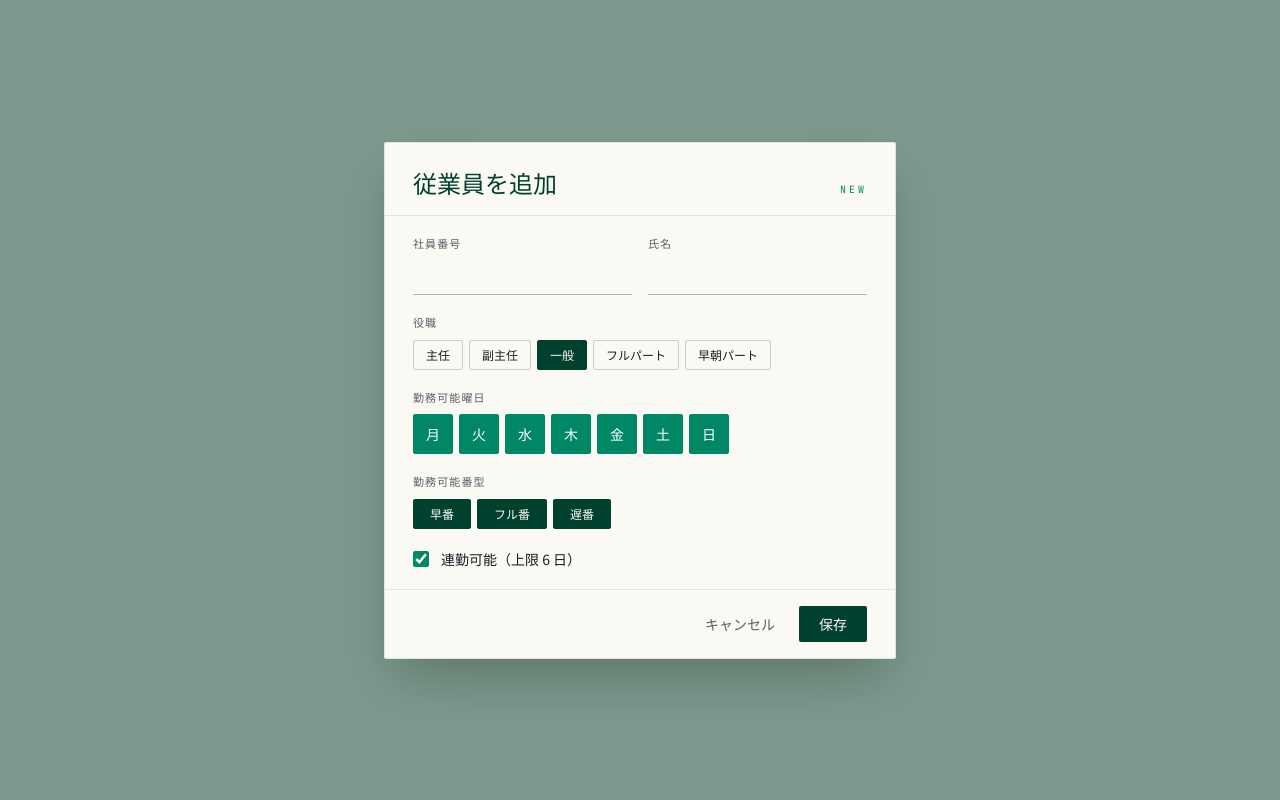
Test: EmployeeFormModal — error handling › shows server detail on rejection
Type "1" into the number field labelled "社員番号" at (522, 276), box [413,258,632,295]
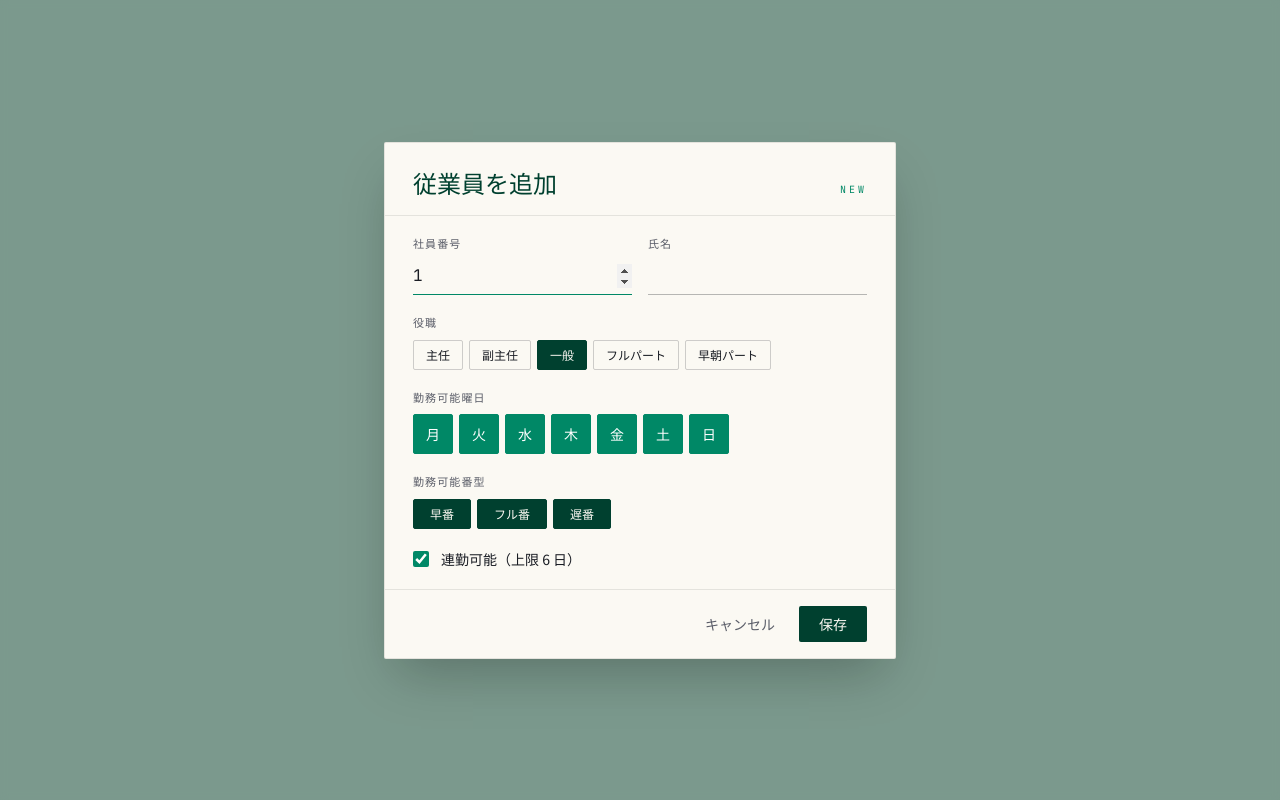
Type "Alice" into the field labelled "氏名" at (758, 276), box [648,258,867,295]
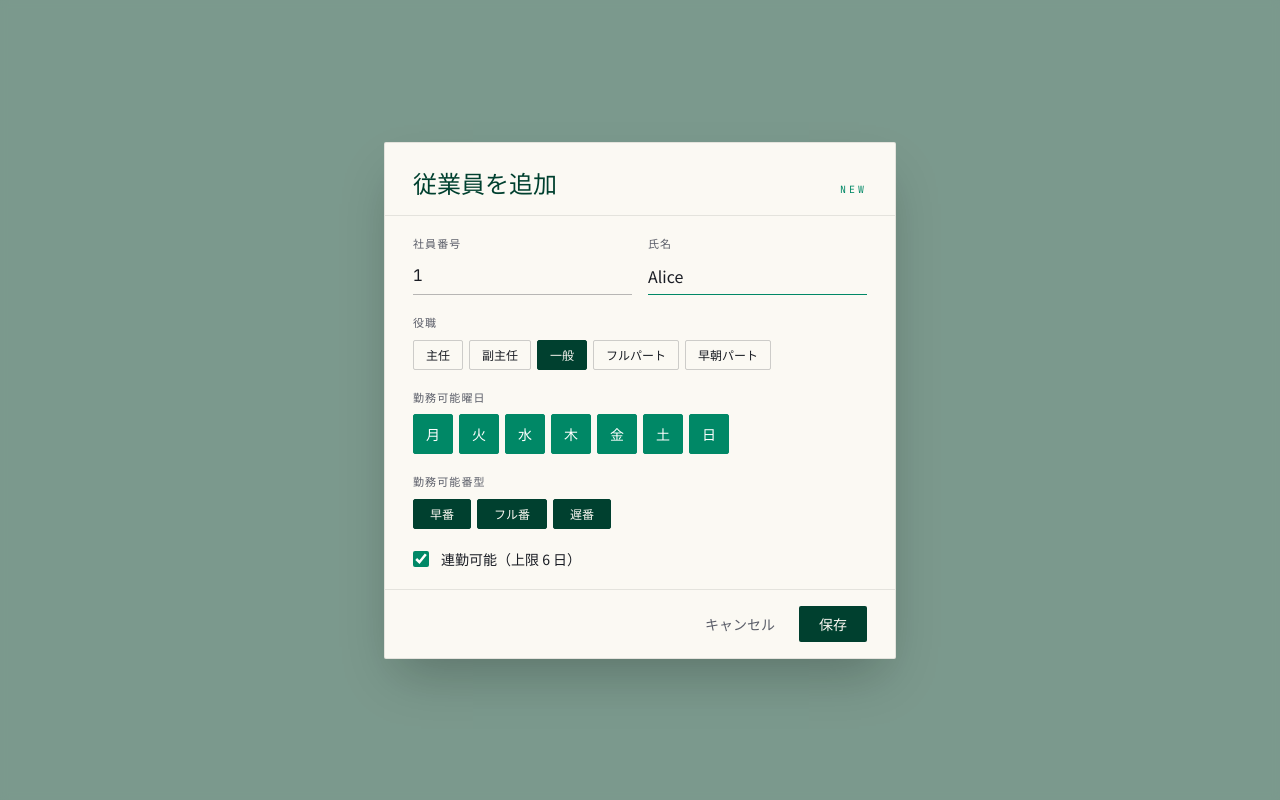
Click the button "保存" at (833, 624), box [799,606,867,642]
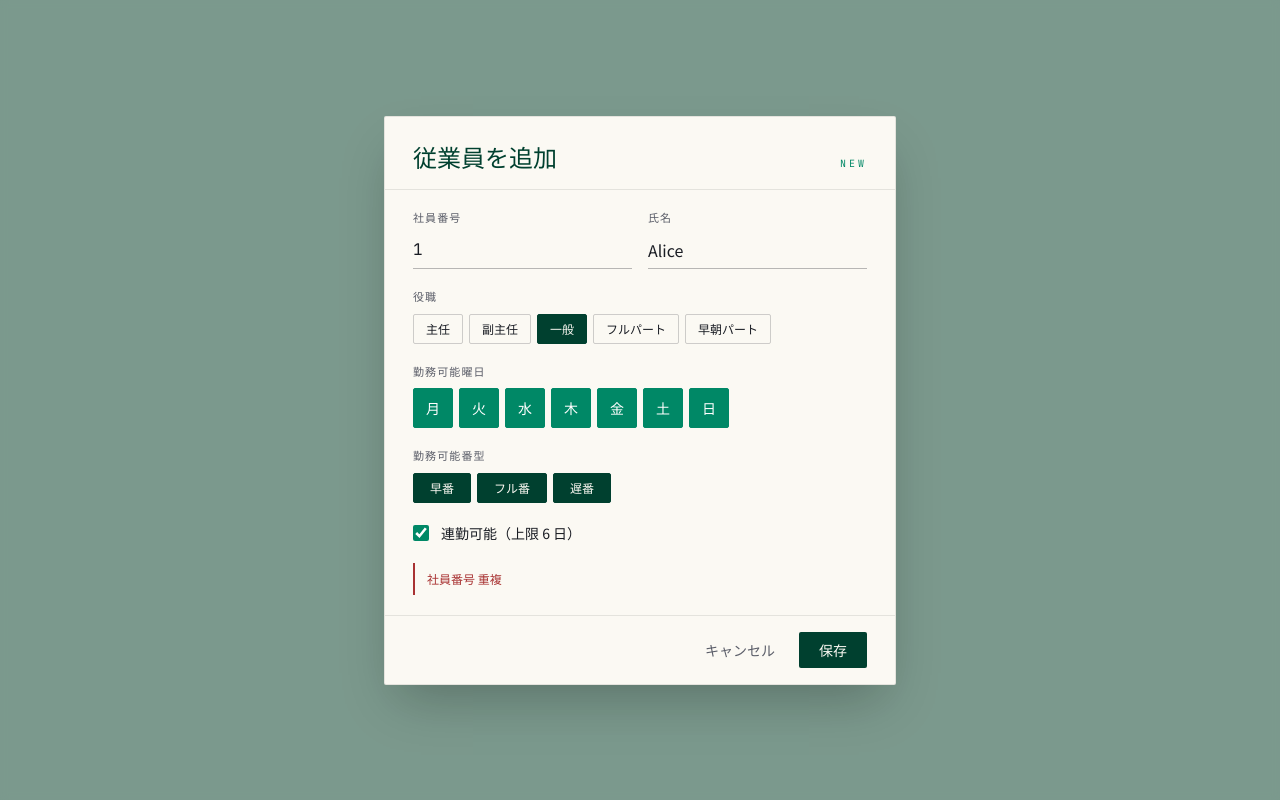
Expected: the text "社員番号 重複" is shown, [413,562,867,594]
